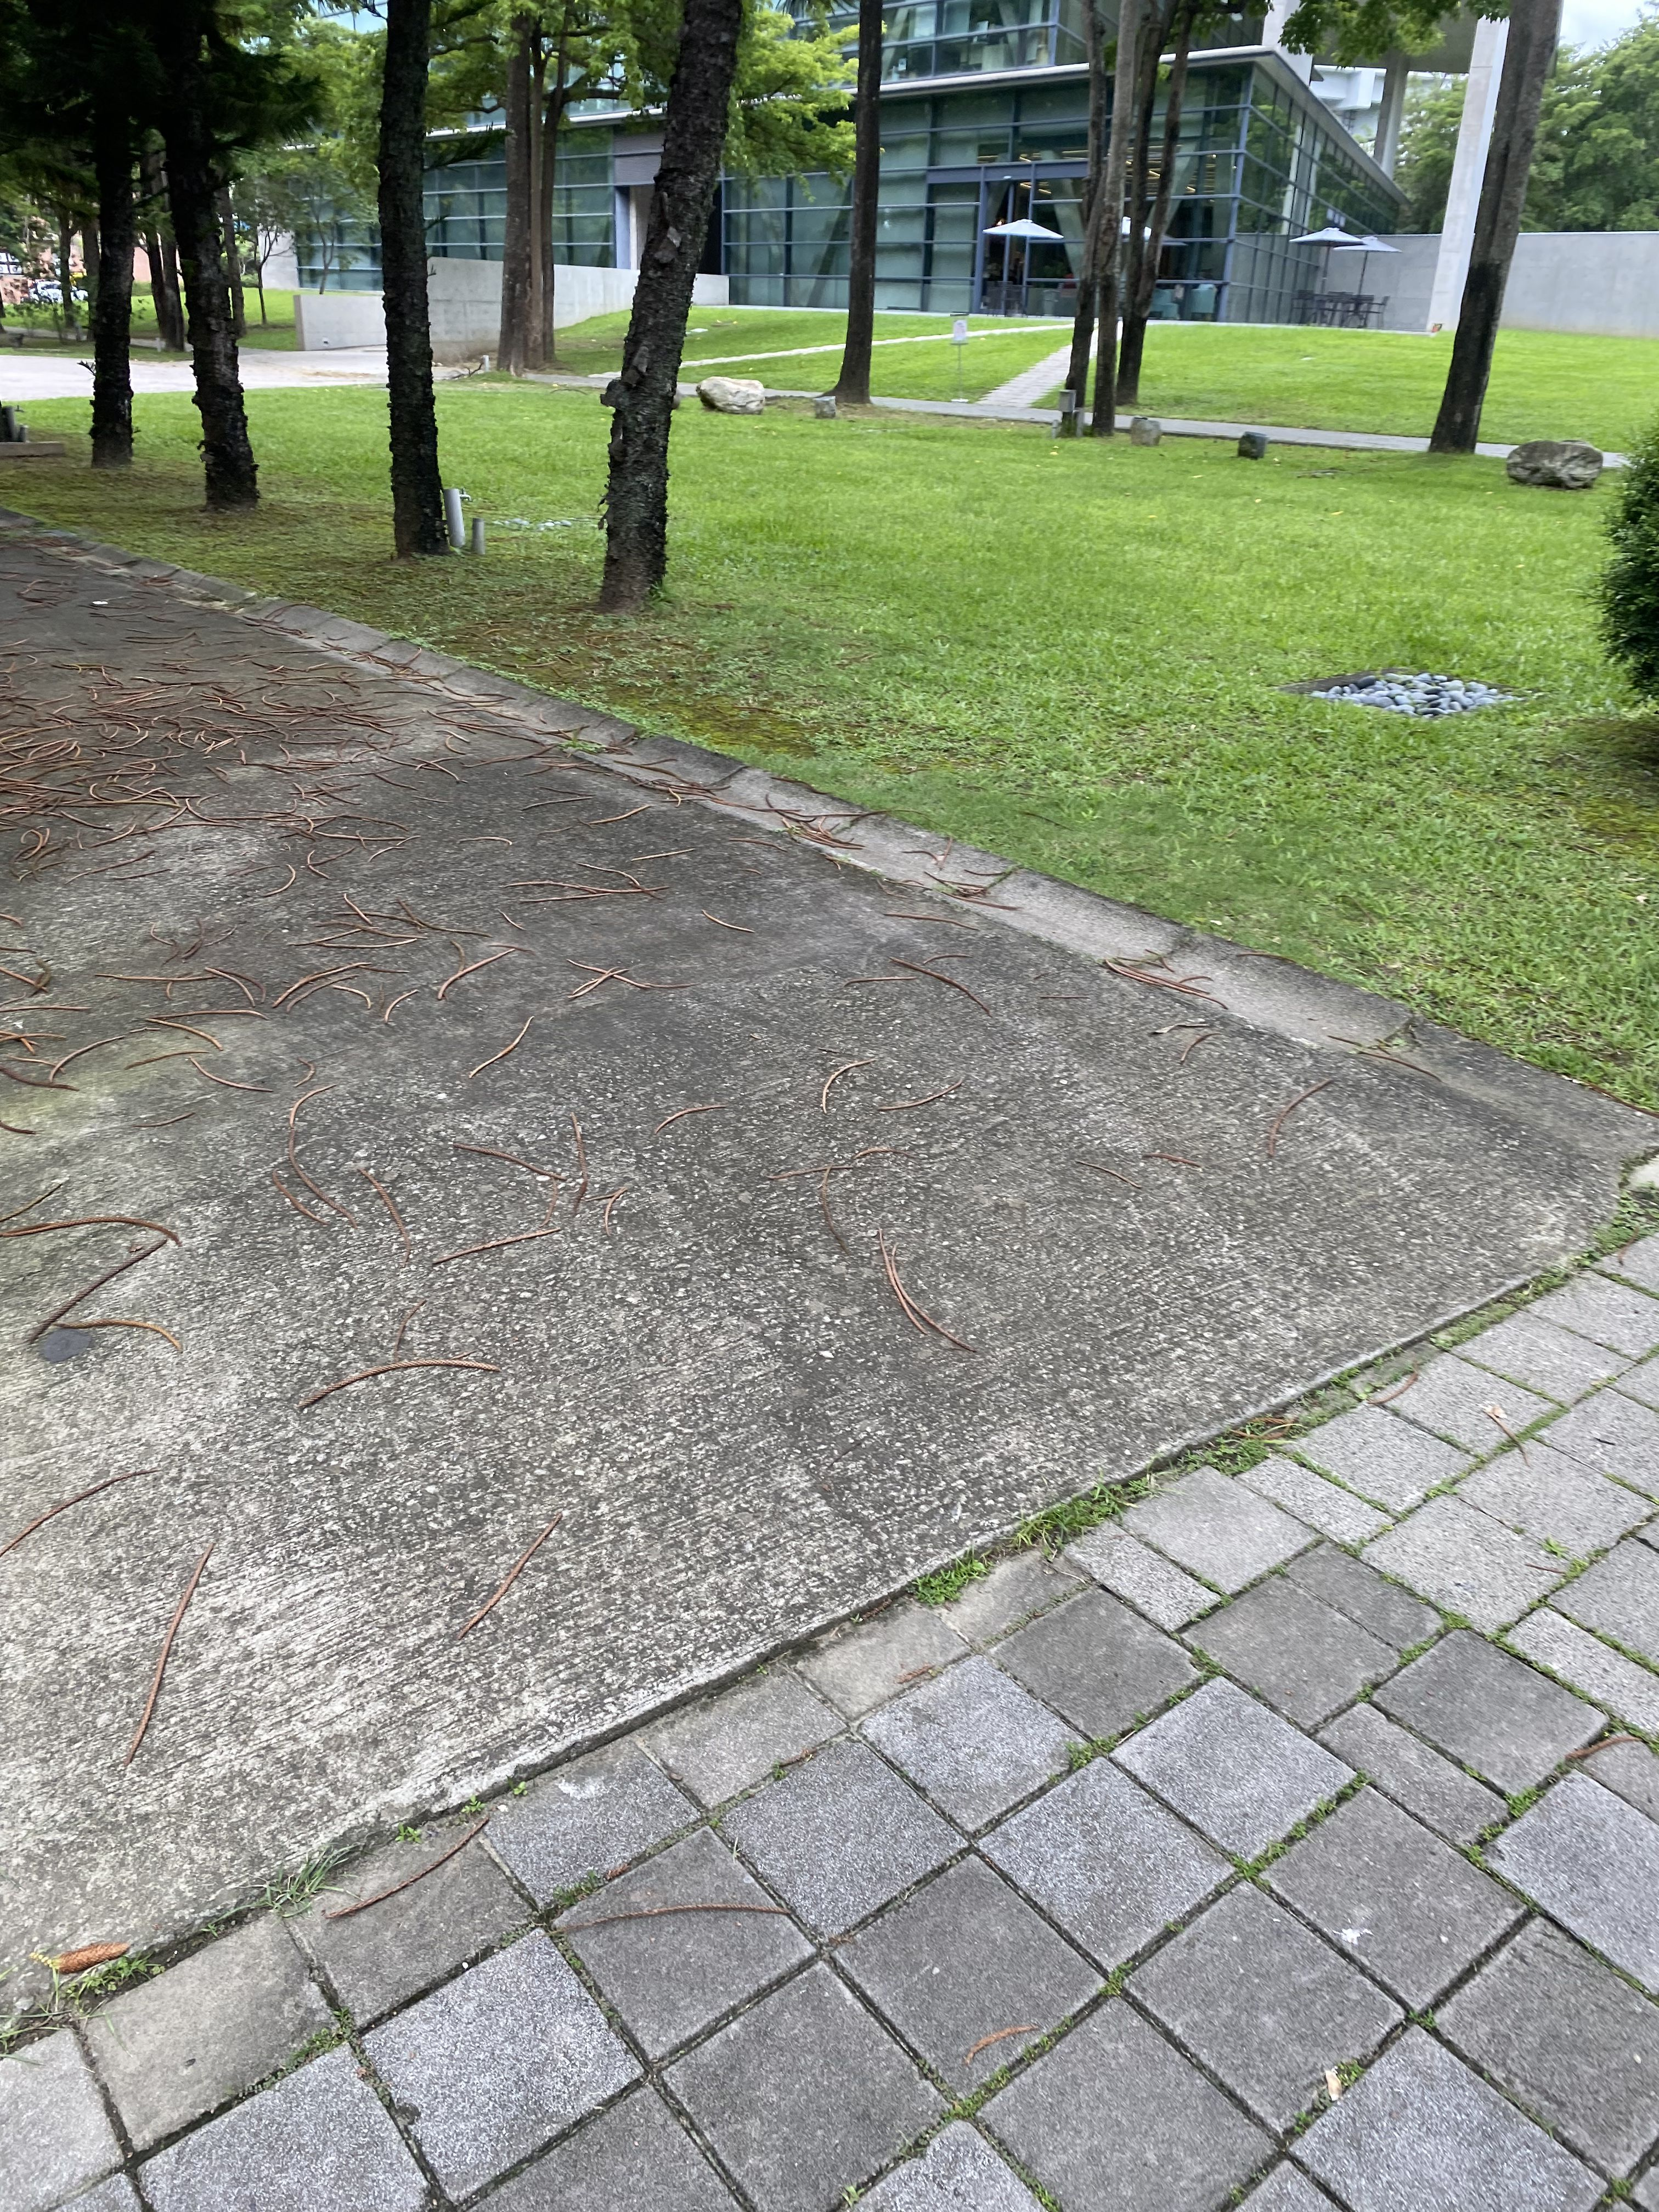sidewalk: (14, 510, 1659, 2212)
